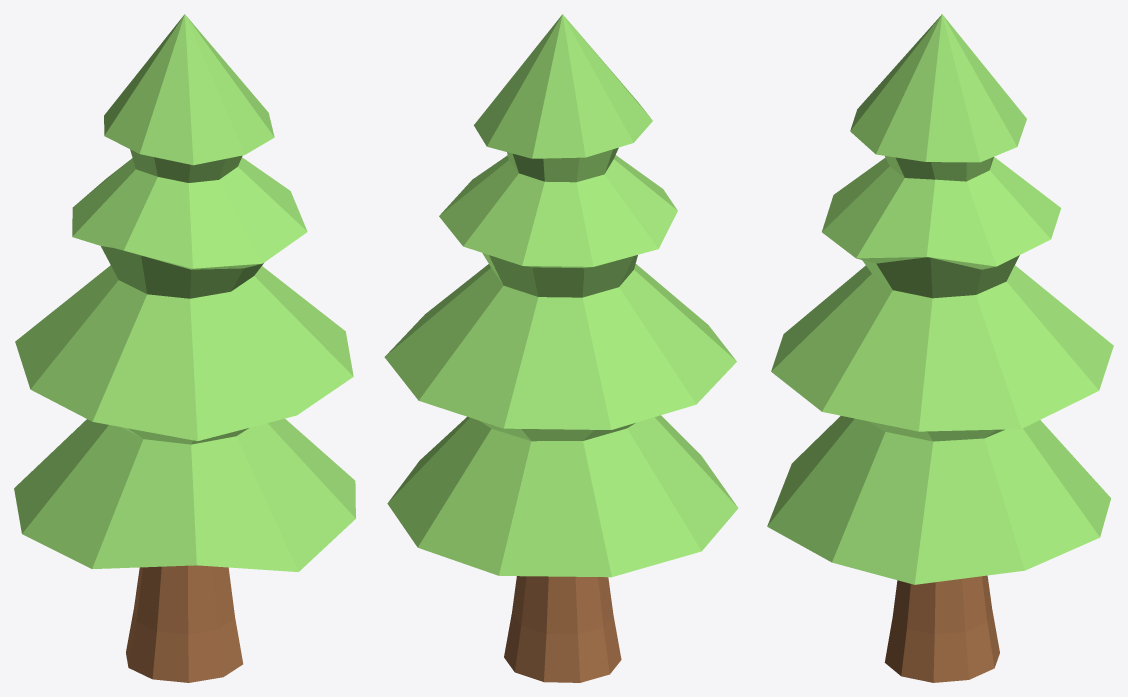
Rendered from Tree4.fbx.
3 views of the same model, side by side, from view 1: azimuth 30°, elevation 25°; view 2: azimuth 150°, elevation 25°; view 3: azimuth 270°, elevation 25° (orthographic).
Visible parts, largest first — view 1: Tree4; view 2: Tree4; view 3: Tree4.
Boxes of the visible parts, x1,y1,x2,y2 form: Tree4: [14, 14, 355, 682]; Tree4: [384, 14, 738, 682]; Tree4: [767, 14, 1113, 682].
Size of the model in its own units: 260 by 520 by 254.
